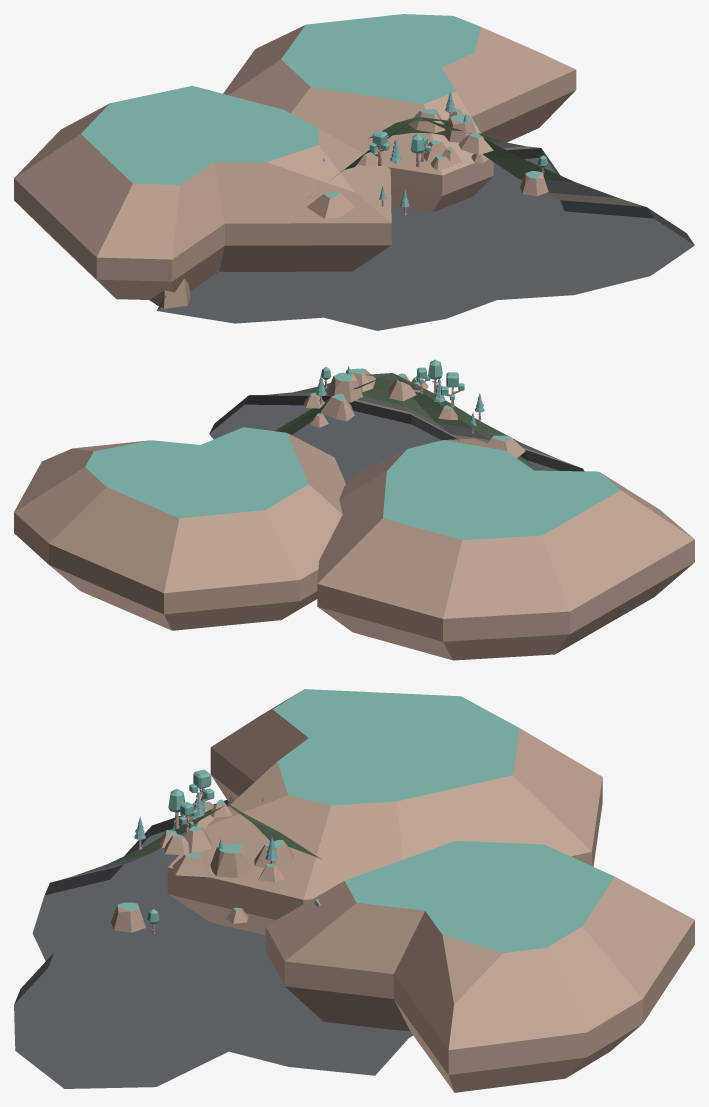
The model's file is cedar_march_lod0.glb.
3 renders of one model, top to bottom at view 1: azimuth 30°, elevation 25°; view 2: azimuth 150°, elevation 25°; view 3: azimuth 270°, elevation 25°, orthographic. The views are drawn at different scales.
Bounding box in the file's own units: 2.9 × 0.7069 × 2.52.
